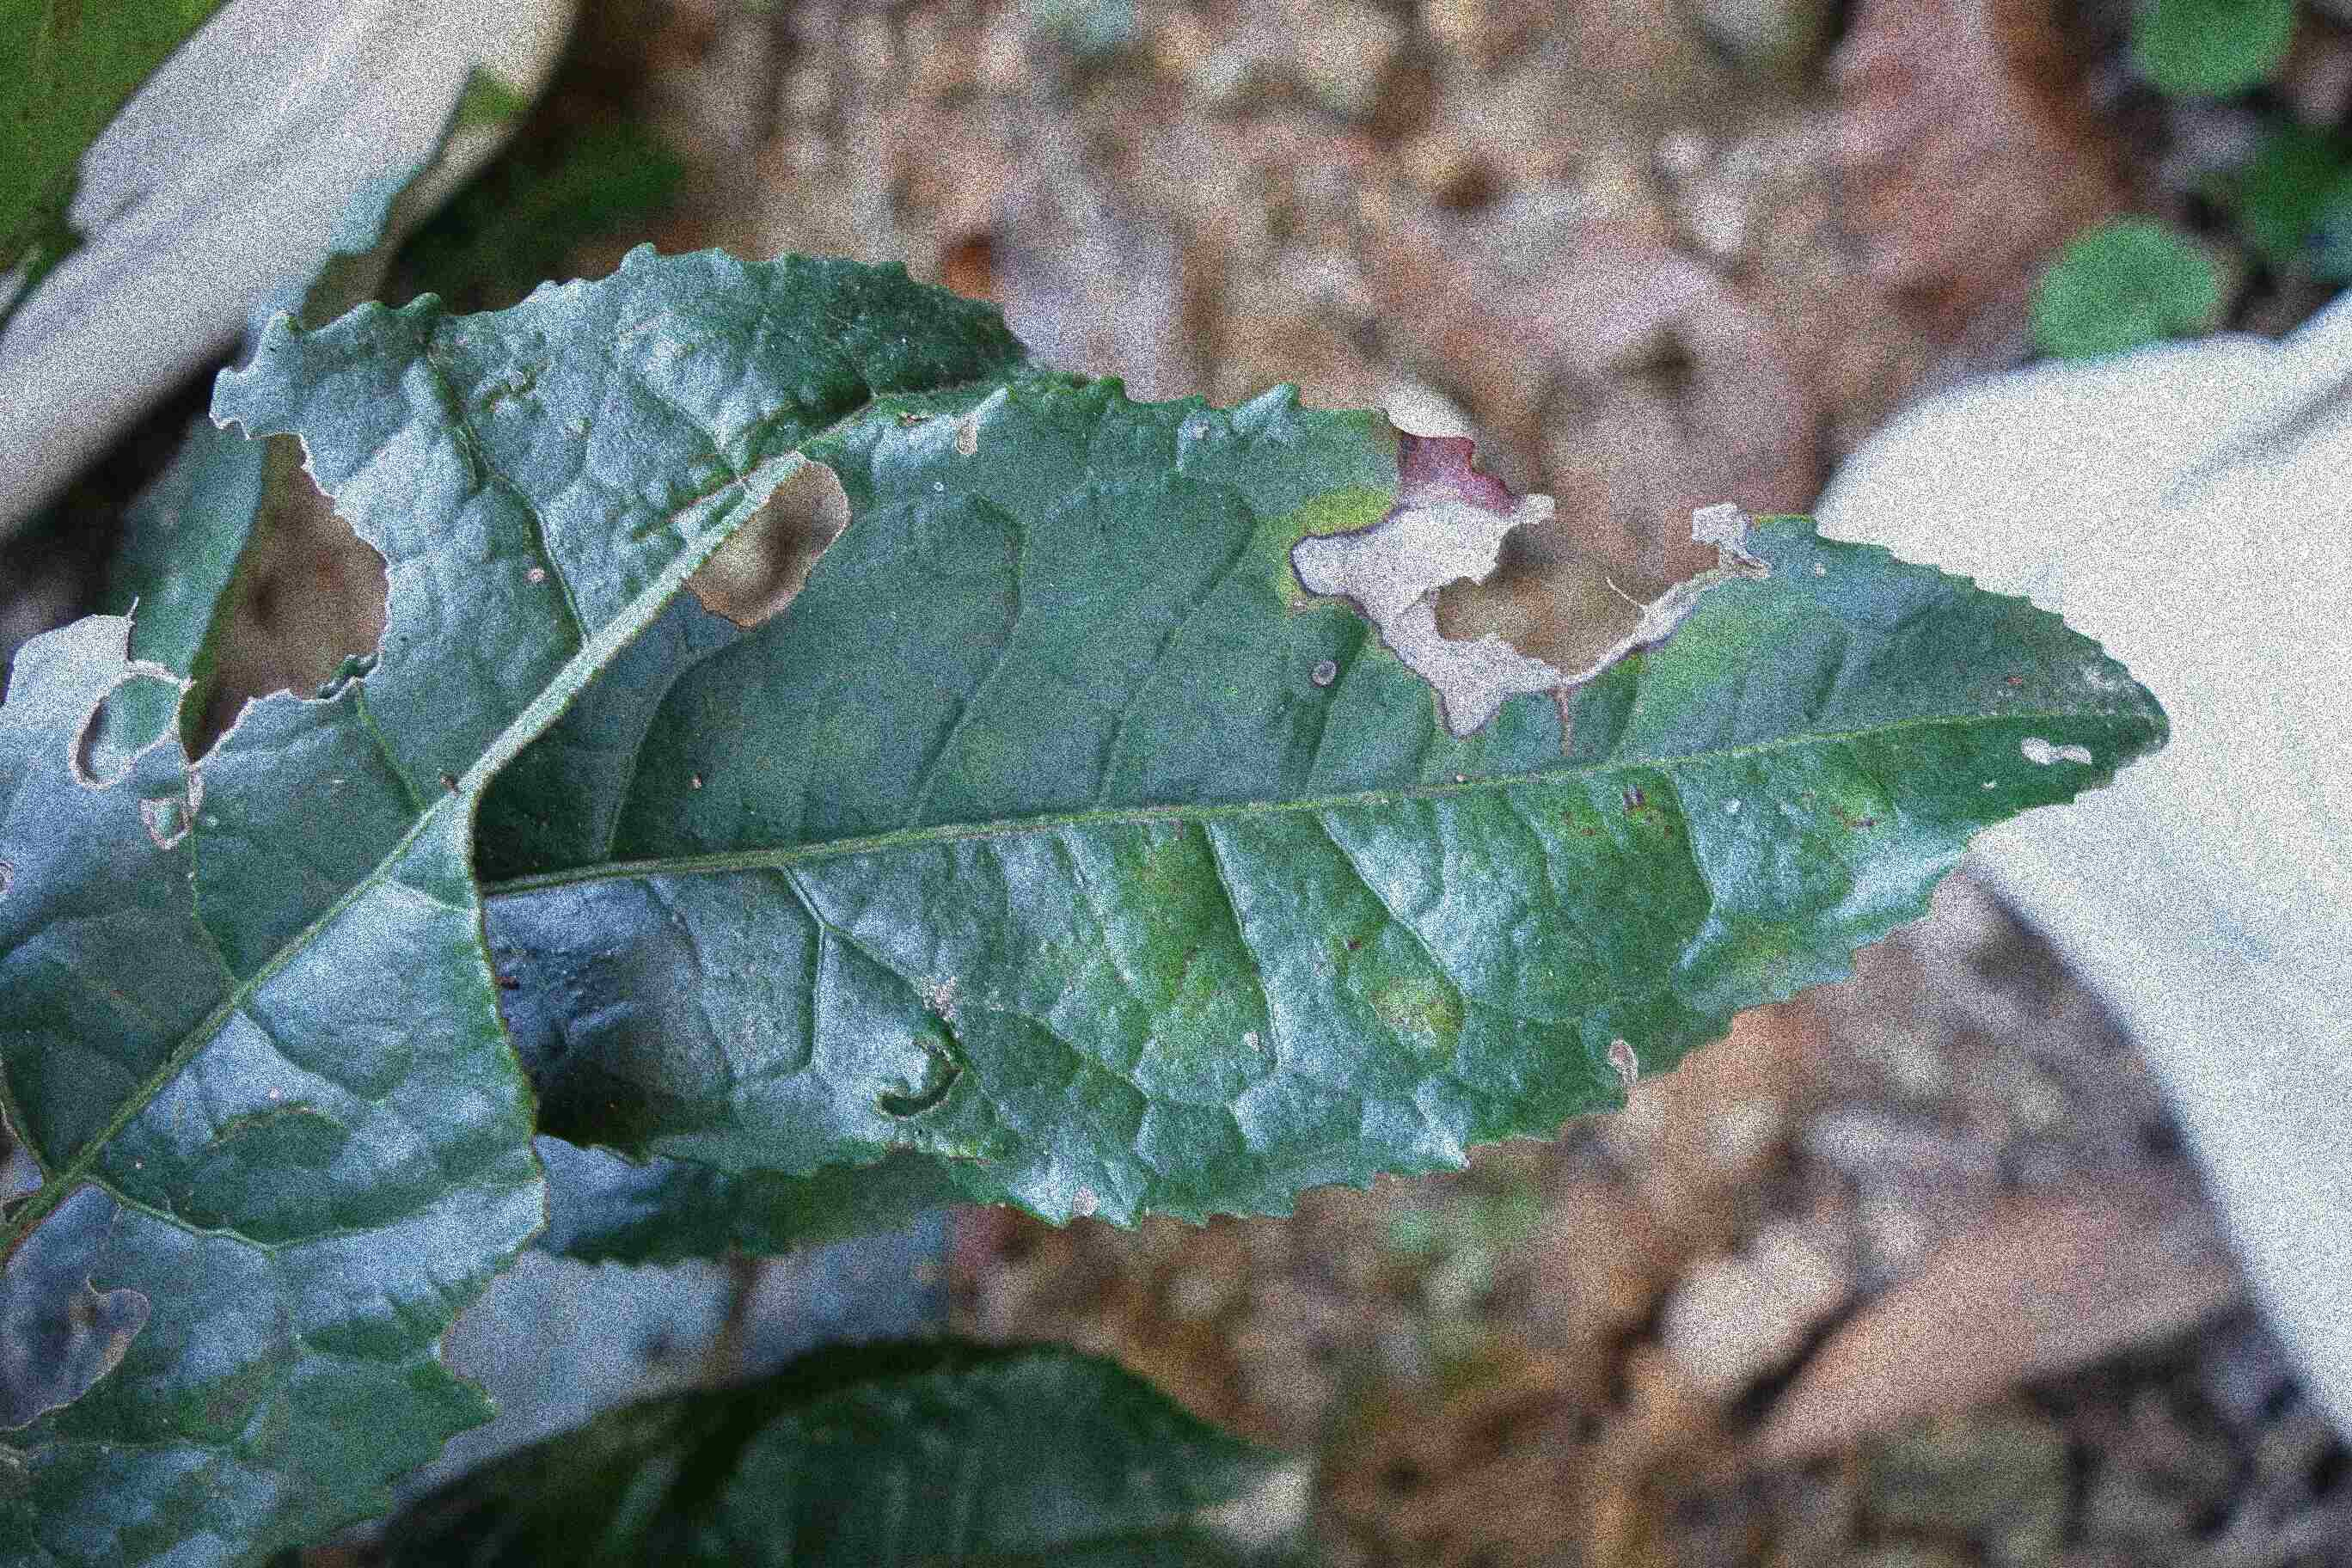chihuo_high: (506, 395, 2168, 1234), (3, 240, 1034, 1564)
